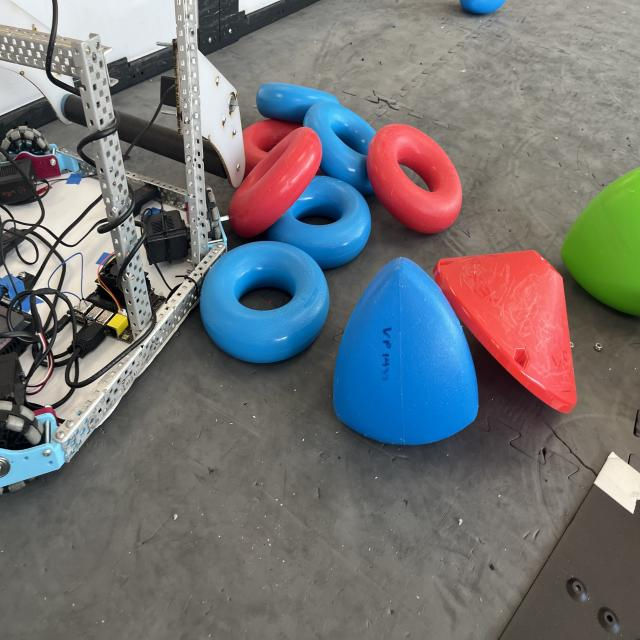Blue-Ring: (200, 242, 329, 363), (266, 177, 371, 268), (302, 102, 375, 195), (256, 82, 339, 123), (312, 130, 315, 133), (332, 232, 335, 233)
Red-Ring: (366, 123, 462, 233), (229, 127, 322, 237), (242, 118, 301, 177)
